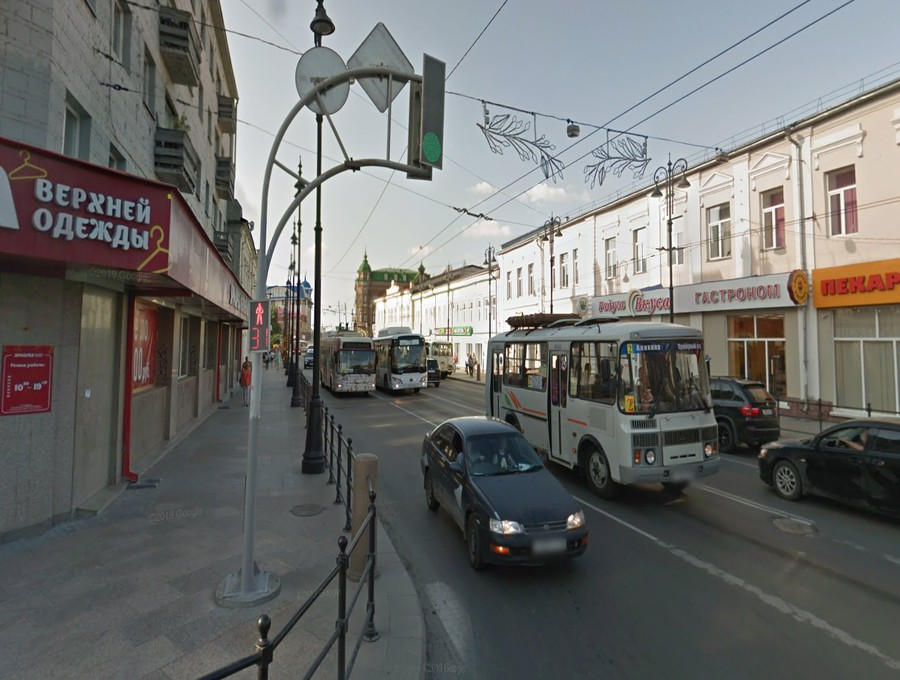Traffic Light-red: (249, 302, 273, 351)
